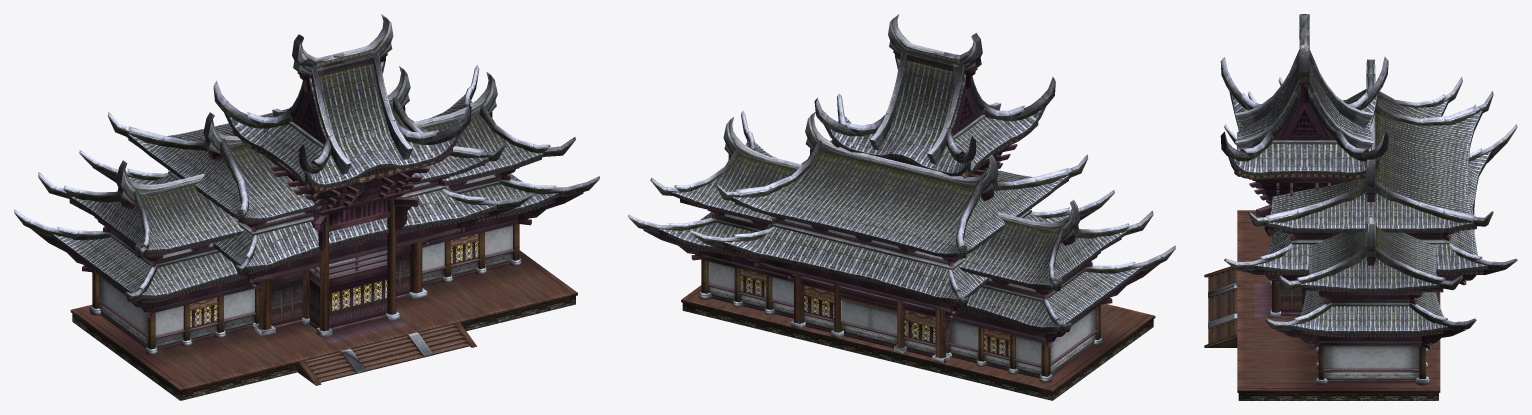
Rendered from XCZ_jz_11.FBX.
The picture shows the model from 3 angles, left to right: view 1: azimuth 30°, elevation 25°; view 2: azimuth 150°, elevation 25°; view 3: azimuth 270°, elevation 25°; orthographic projection. The views are drawn at different scales.
Visible parts, largest first — view 1: XCZ_jz_02; view 2: XCZ_jz_02; view 3: XCZ_jz_02.
Part boxes in pixels (box(x1,y1,x2,y2)): XCZ_jz_02: box(14, 14, 599, 400); XCZ_jz_02: box(628, 14, 1175, 400); XCZ_jz_02: box(1204, 14, 1517, 400).
Bounding box in the file's own units: 4902 × 2964 × 3021.
